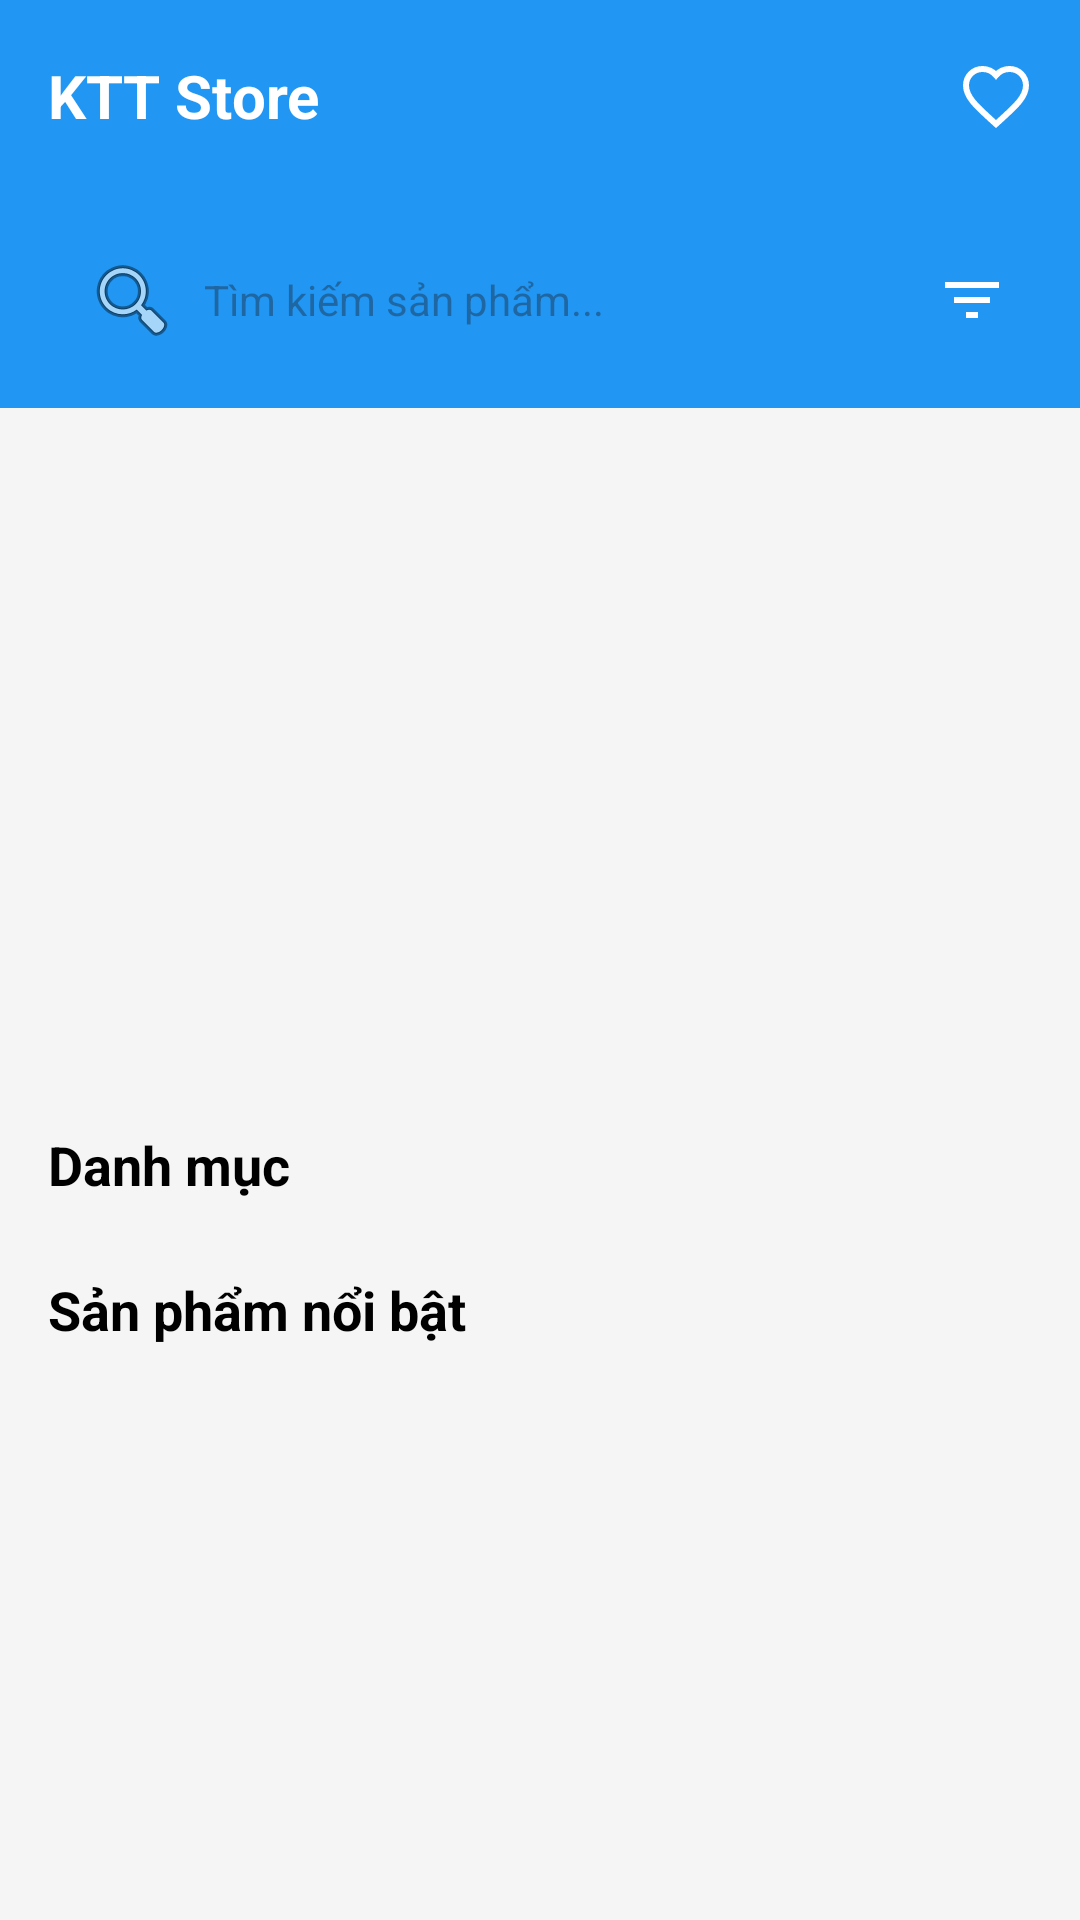

Where to tap for icons on this 1080px×1920px app screen, as point (x, y):
favorite border: point (996, 97)
filter: point (972, 300)
